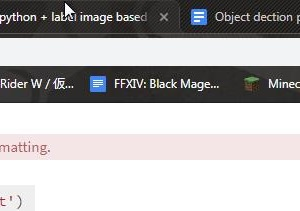cursor: (63, 1, 76, 21)
